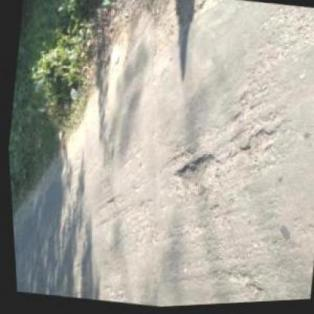Hueco: (166, 146, 220, 197), (236, 124, 276, 168)
